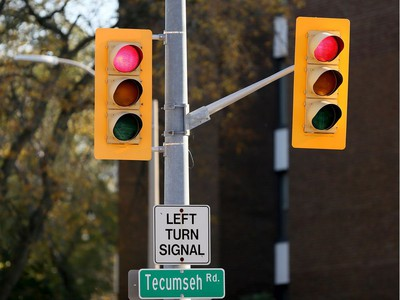trafficlight_red: (305, 29, 345, 135), (106, 43, 144, 146)
